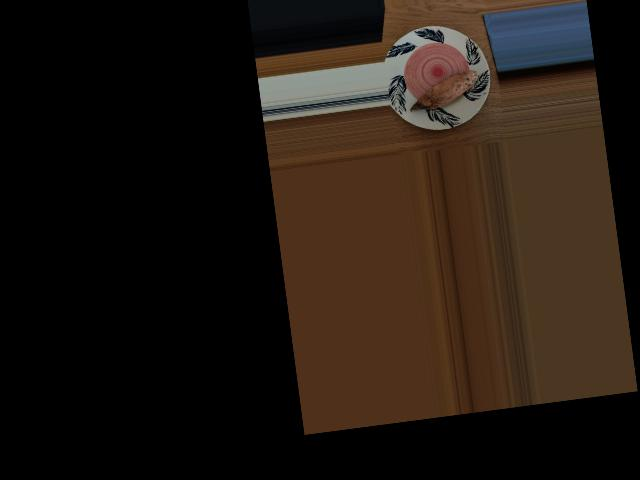sweet_potato: (413, 67, 477, 111)
